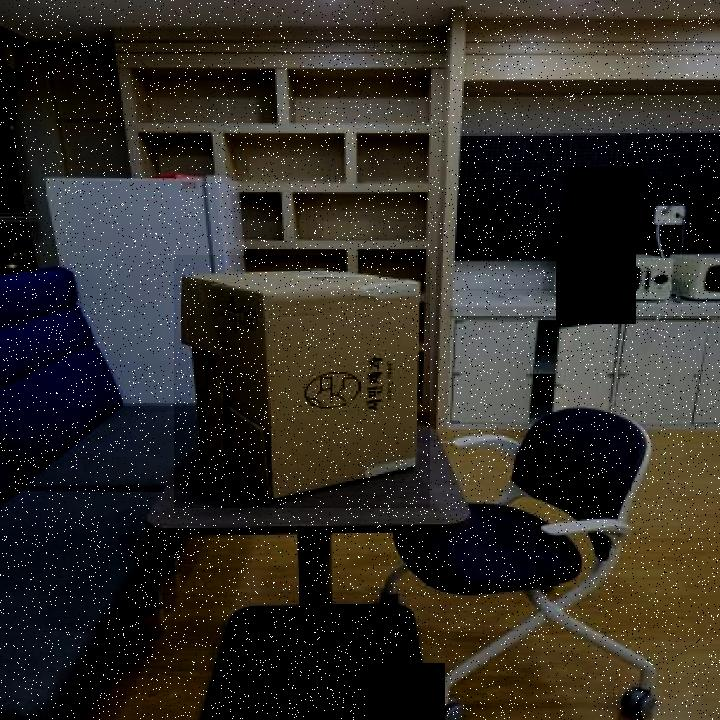box: (174, 255, 430, 508)
